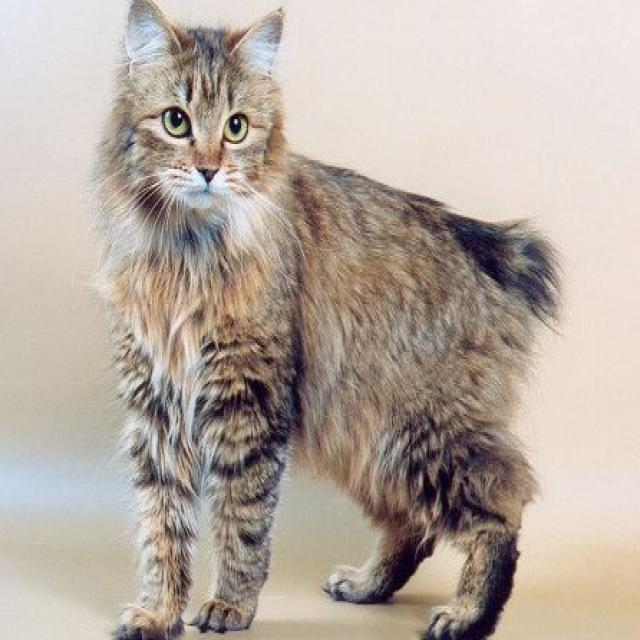American Bobtail: (86, 0, 563, 640)
